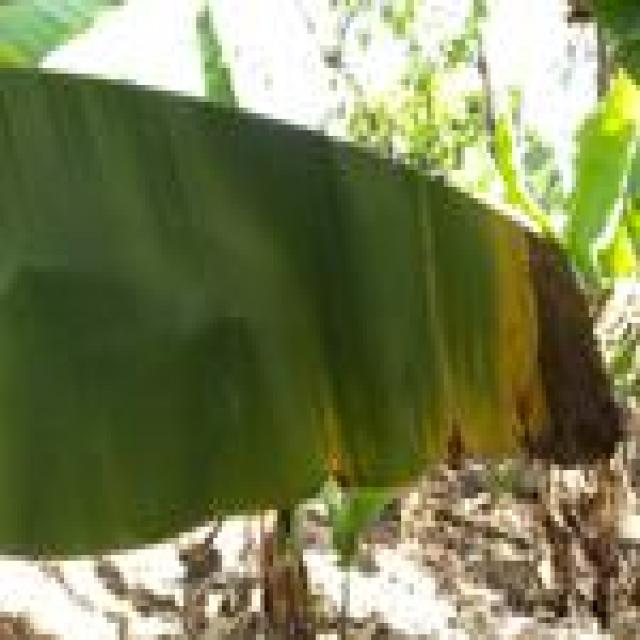Early_rust: (386, 162, 640, 521)
